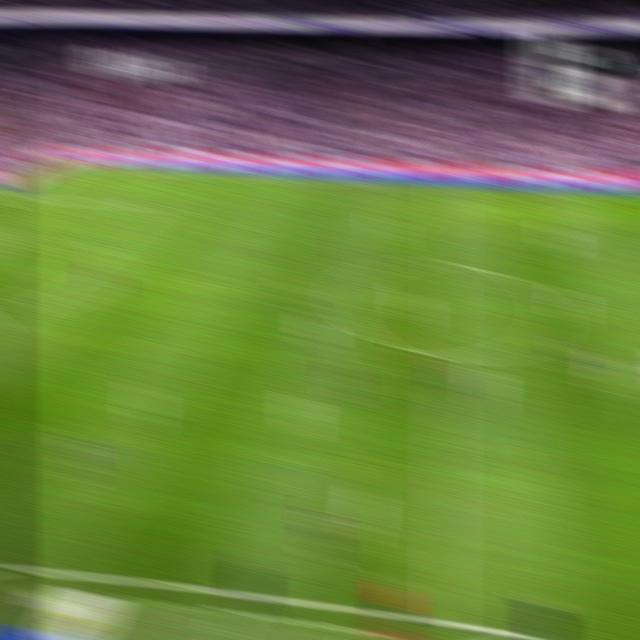bigarea_top_inner: (132, 197, 156, 214)
bottom_arc_area_intersection: (14, 298, 41, 316)
corner: (56, 158, 82, 173)
halfcircle_bottom: (430, 339, 460, 370)
halfcircle_top: (431, 249, 461, 276)
midline_bottom_intersection: (428, 601, 462, 637)
midline_top_intersection: (434, 180, 459, 197)
smallarea_top_inner: (0, 224, 18, 240)
top_arc_area_intersection: (88, 236, 112, 253)
